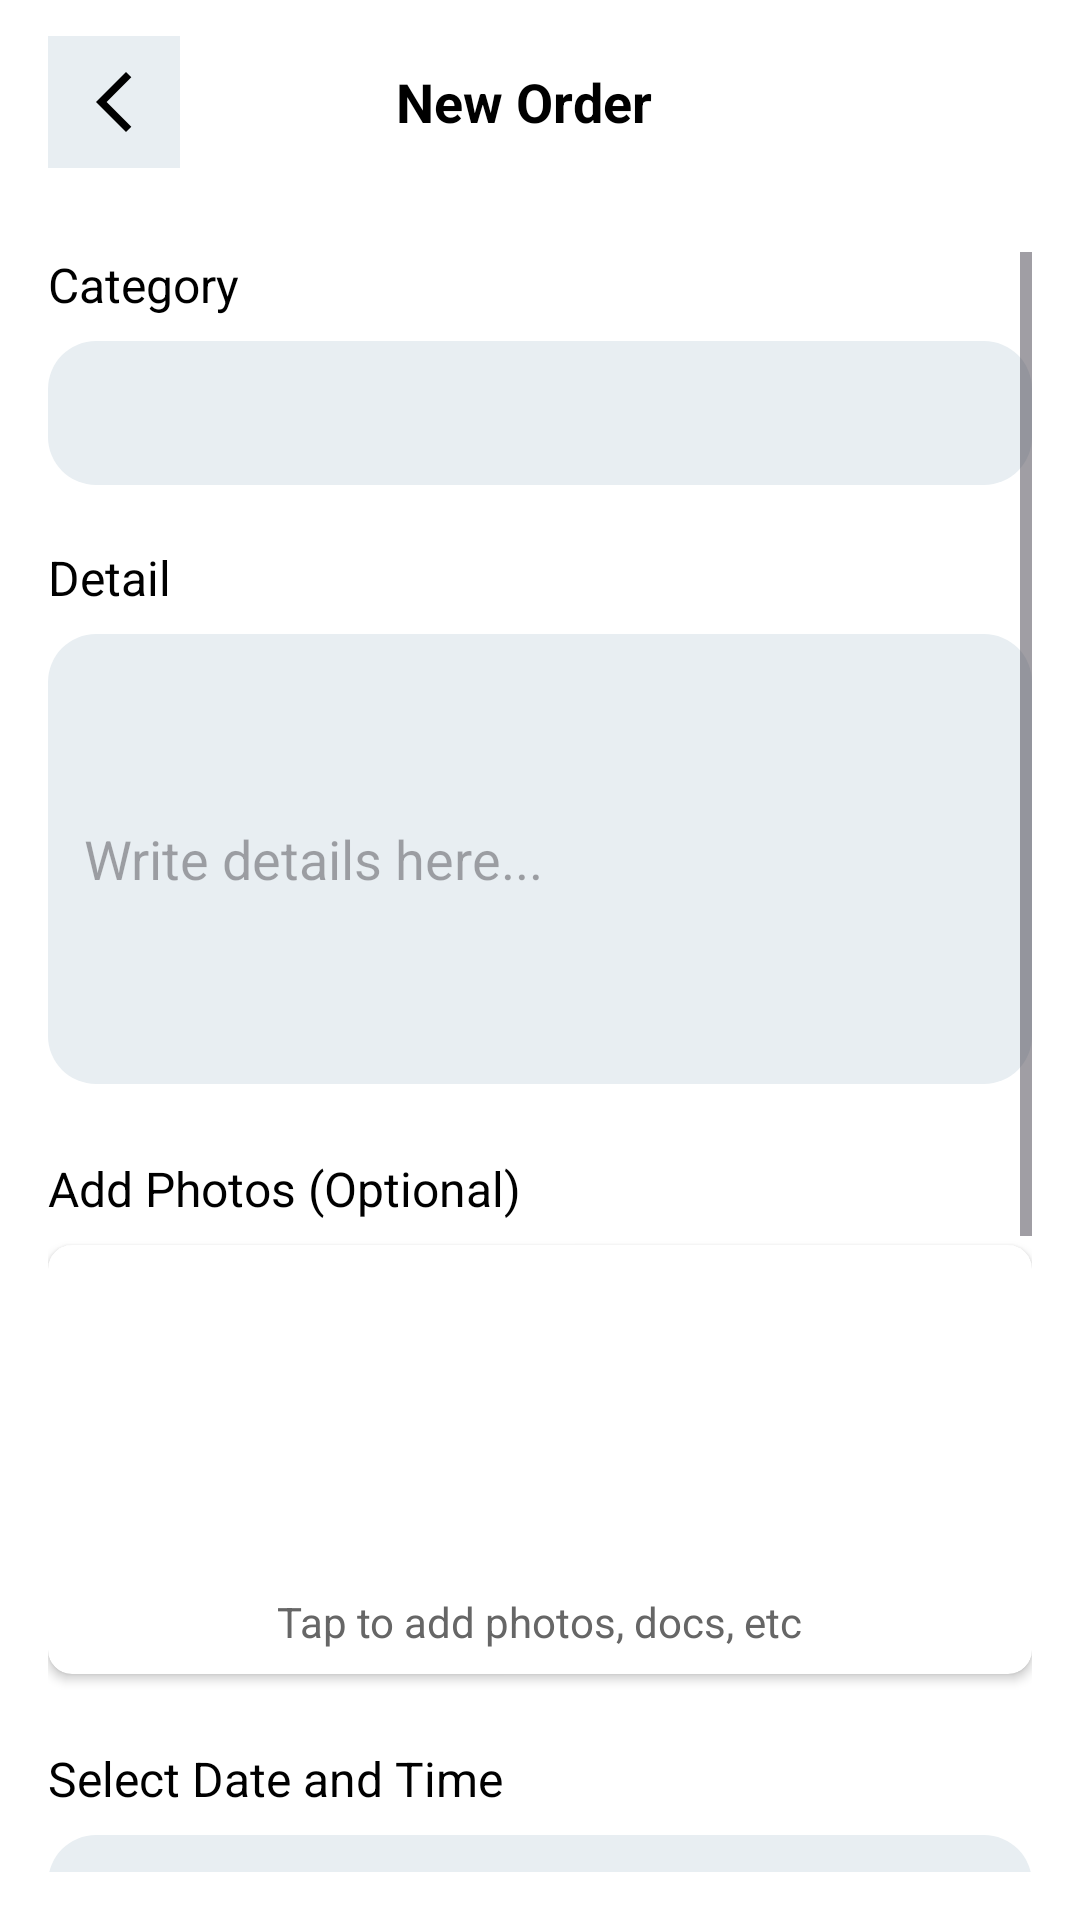

Icon click points for this 1080 × 1920 phone screenshot, format (x,y):
Back Button: (114,102)
